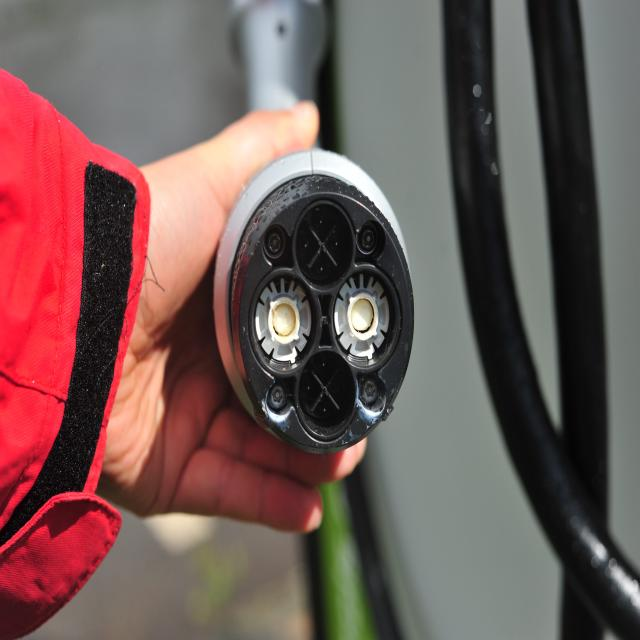CHAdeMO: (213, 167, 426, 475)
